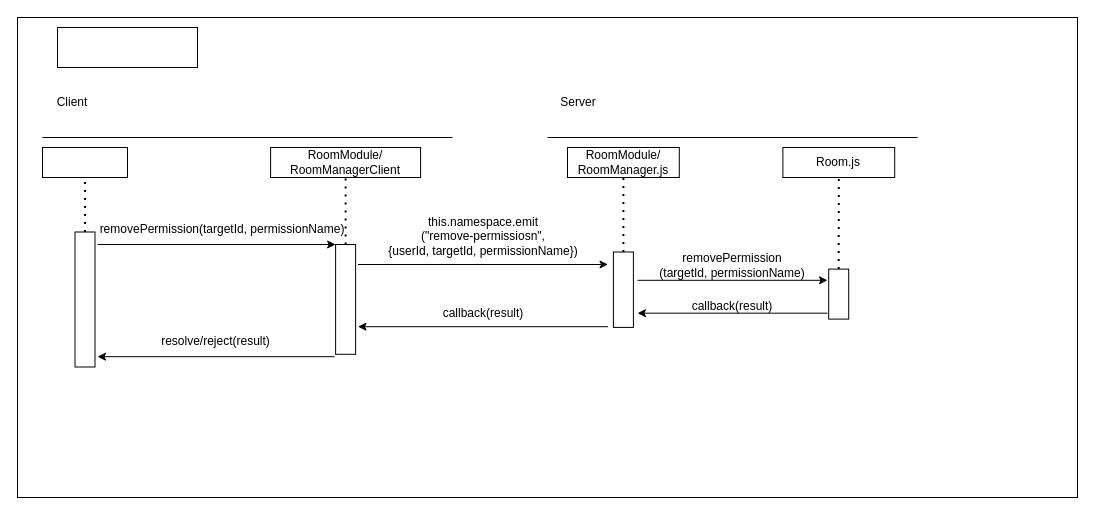
Image size: 1095x515. Some labels were removed from this diagram. Here are the shapes that lost their labels. From the top down, the centre of each, then its label:
At (x=127, y=47): "RoomManager : Remove Permission".
At (x=85, y=162): "frontend UI (teacher)".
